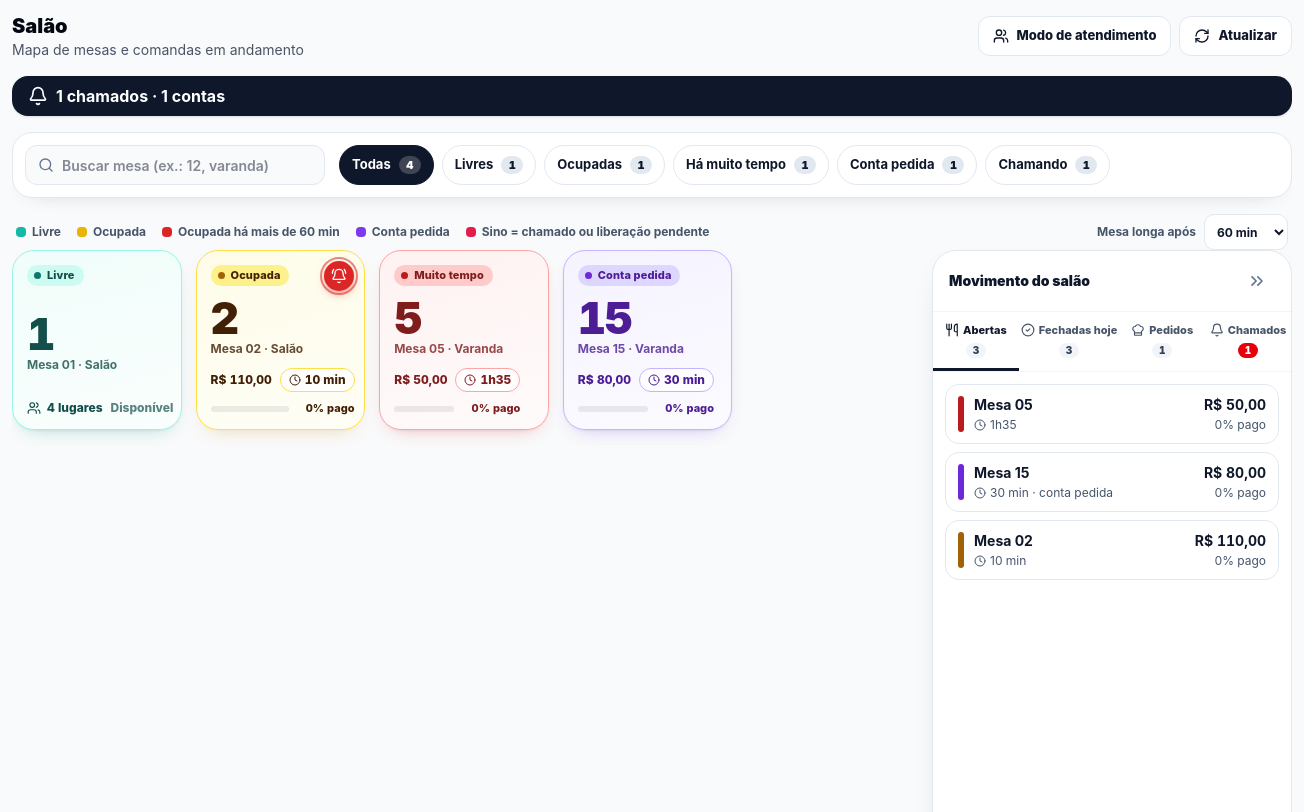
Test: SalonPage — mapa de mesas › busca (15 não acha a 5) e filtros por status
Check: the button with test id "salon-table-t1" is shown, box [12,250,182,430]
Type "5" into the search field labelled "Buscar mesa" at (187, 165), box [62,154,312,176]
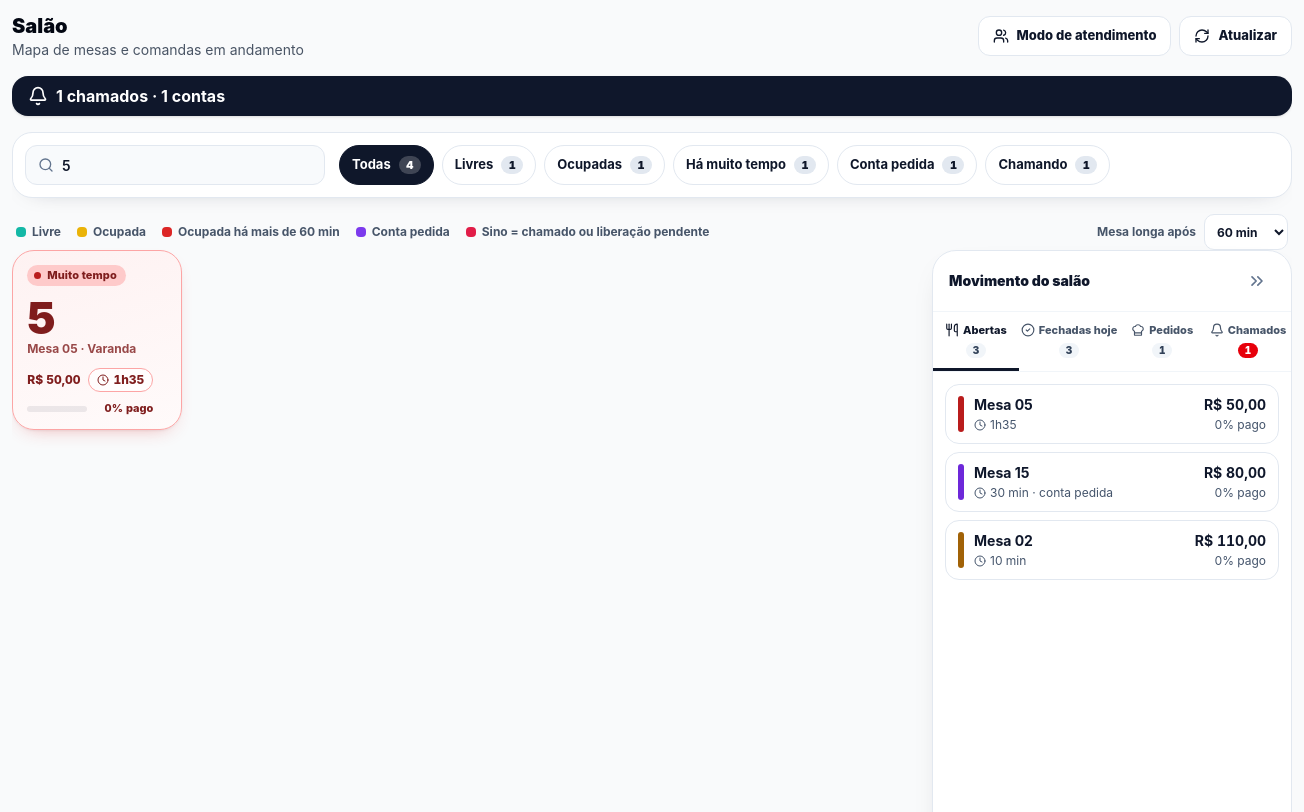
Check: the button with test id "salon-table-t5" is shown, box [12,250,182,430]
Check: the button with test id "salon-table-t15" is gone
Replace the text in the search field named "Buscar mesa" with "varanda" at (187, 165), box [62,154,312,176]
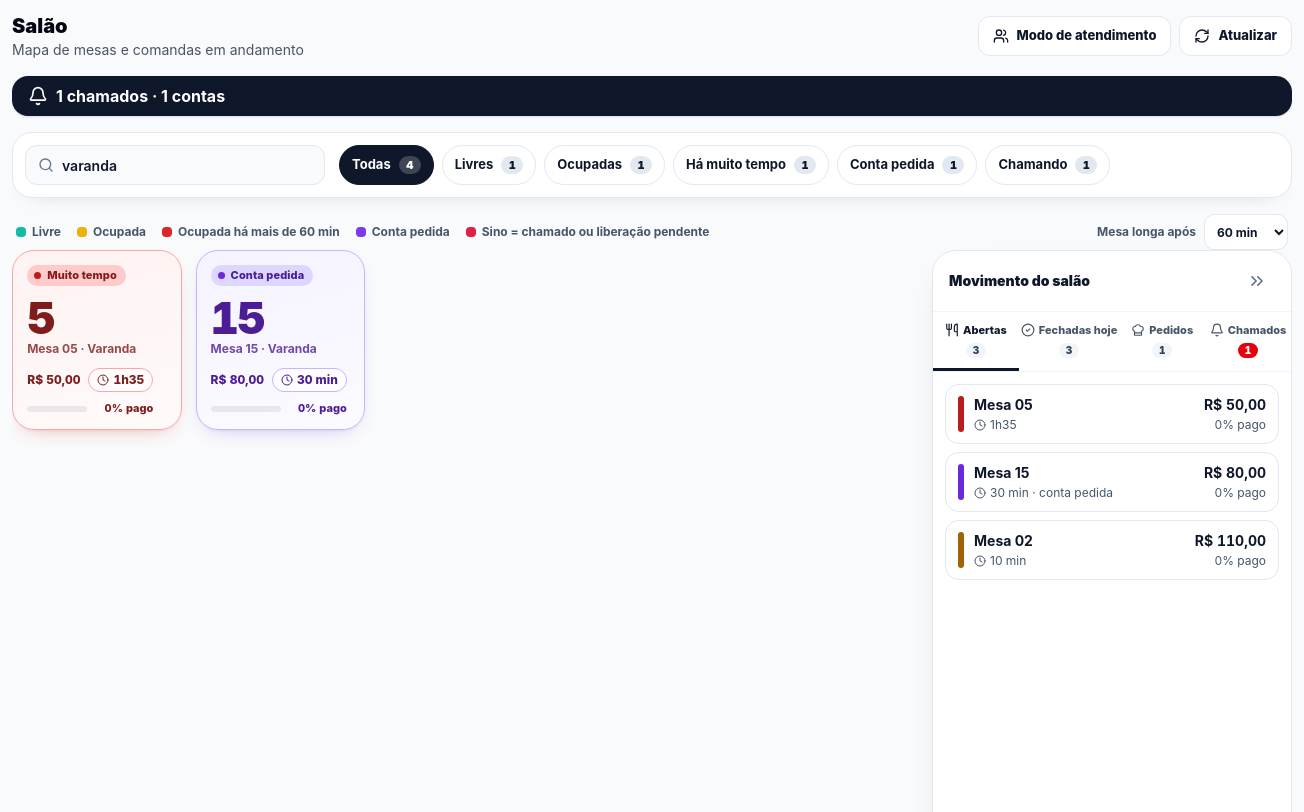
Check: the button with test id "salon-table-t15" is shown, box [196,250,365,430]
Clear the search field named "Buscar mesa" at (187, 165), box [62,154,312,176]
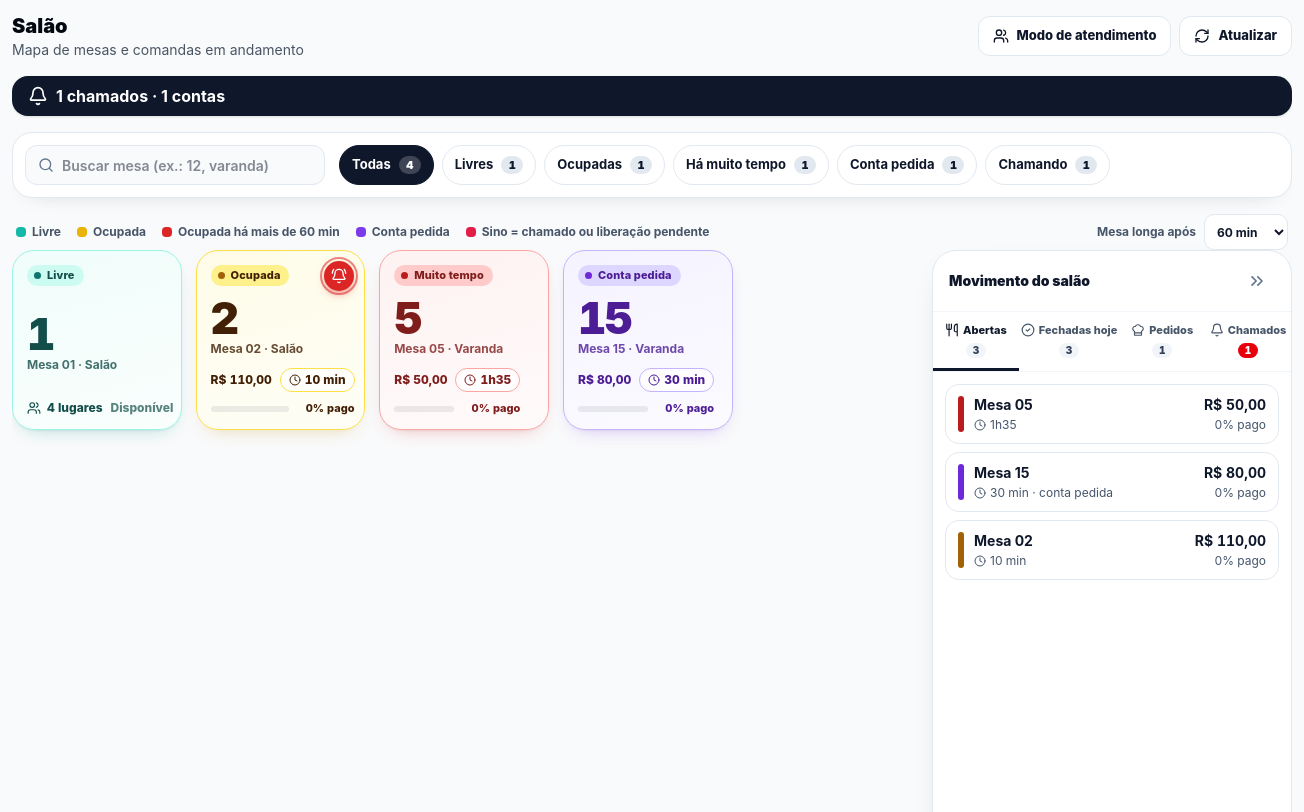
Click the button with test id "salon-filter-BILL" at (907, 165), box [837,145,977,185]
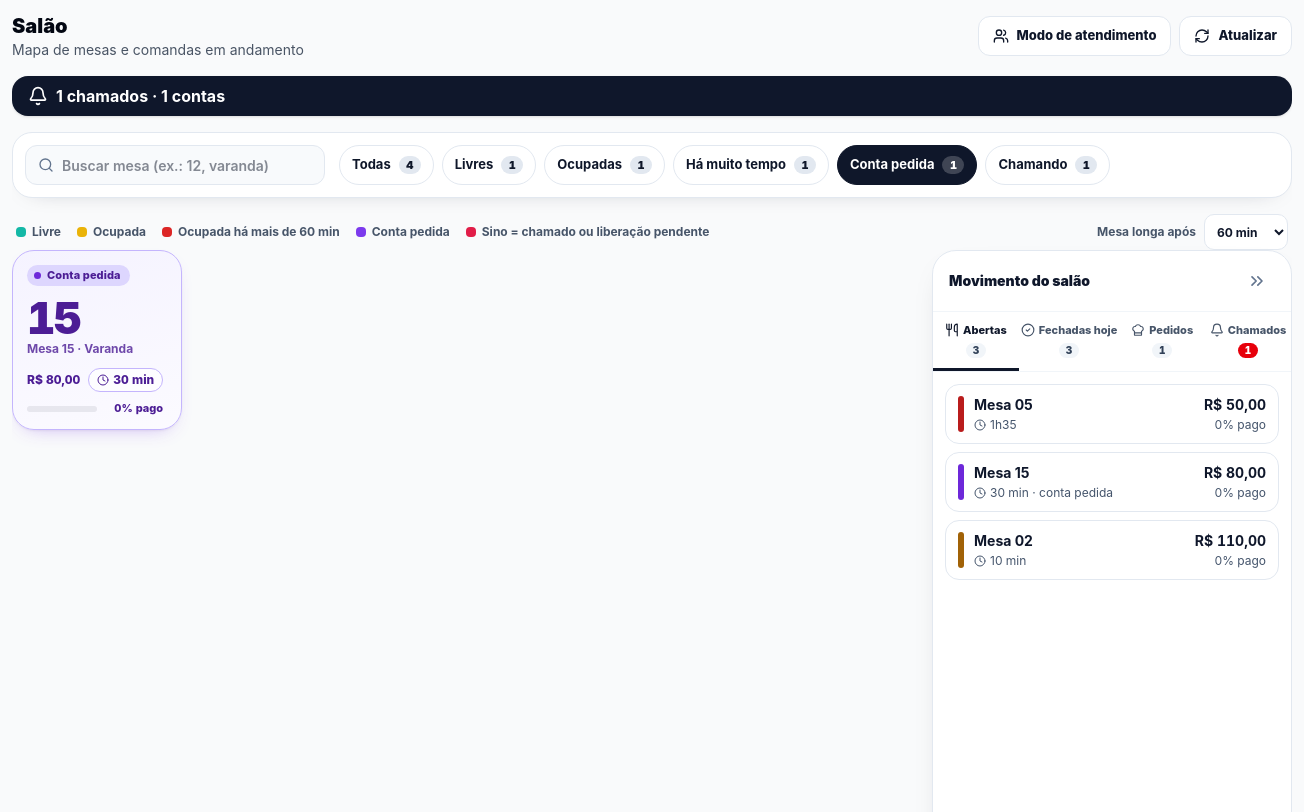
Check: the button with test id "salon-table-t15" is shown, box [12,250,182,430]
Check: the button with test id "salon-table-t1" is gone
Click the button with test id "salon-filter-CALL" at (1048, 165), box [986,145,1110,185]
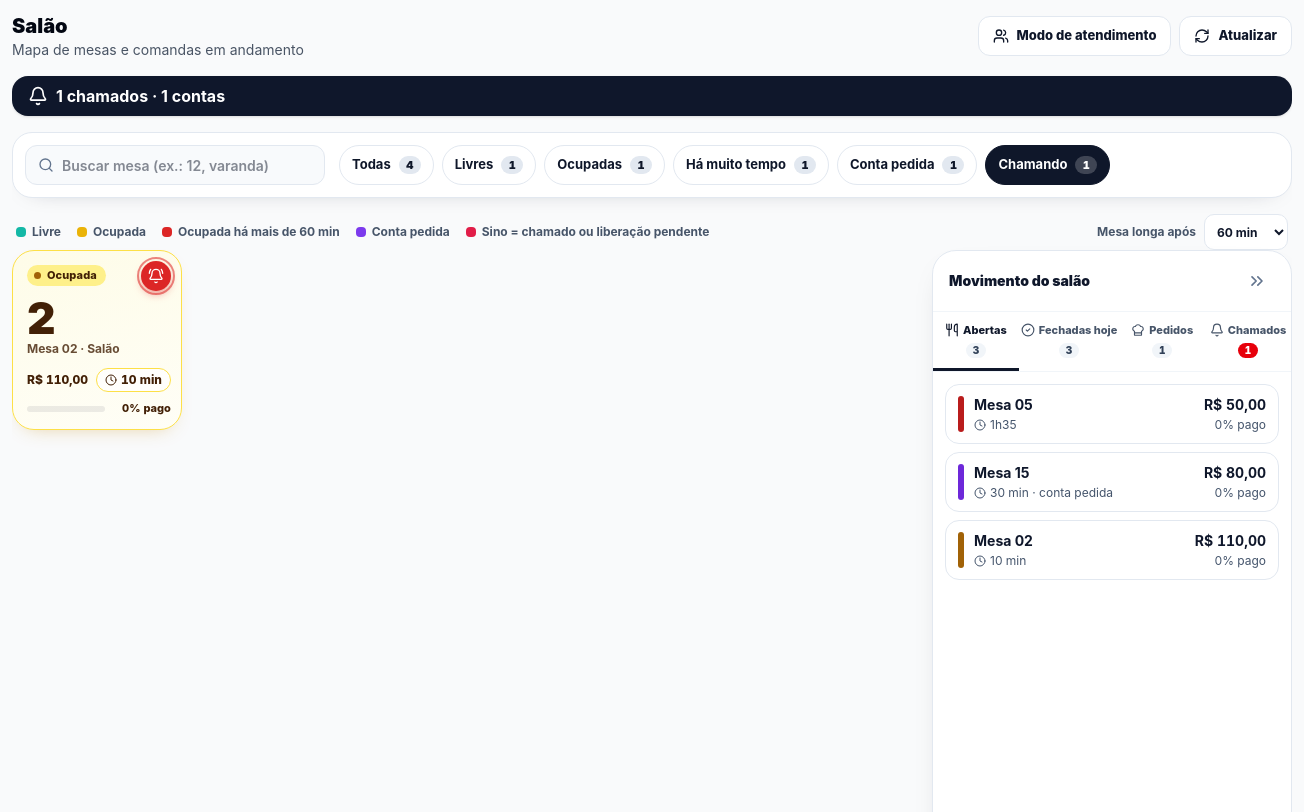
Check: the button with test id "salon-table-t2" is shown, box [12,250,182,430]
